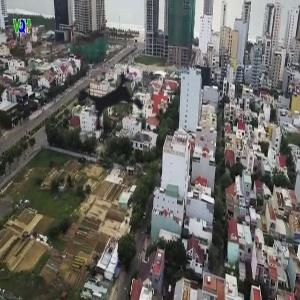drone: (48, 44, 177, 173)
